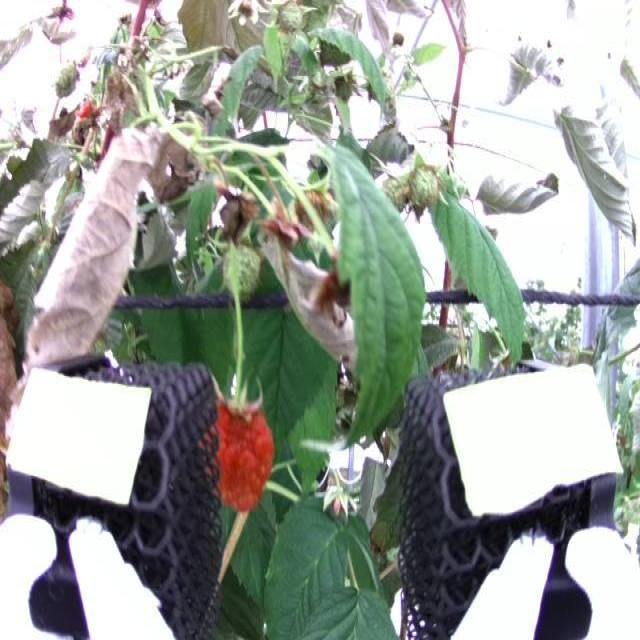Riped berries: (213, 392, 282, 511)
